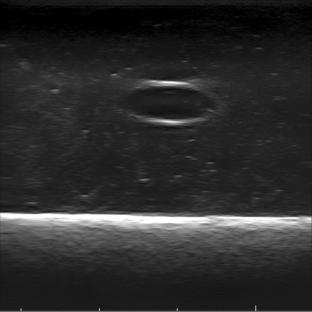vessel: (120, 80, 217, 126)
